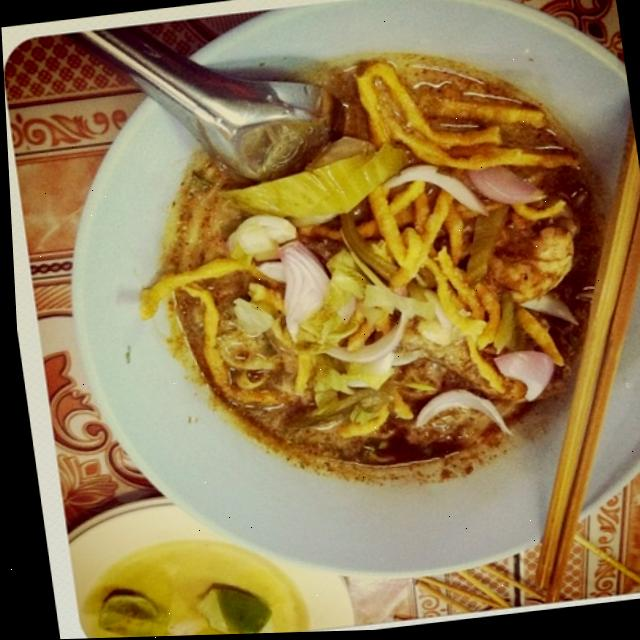面条主食: (24, 0, 640, 605)
